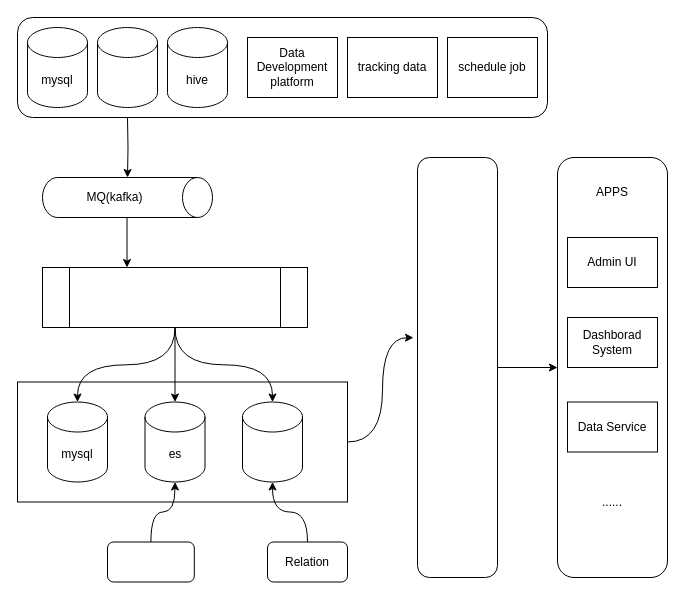
This 685x600 diagram has some shape labels left out. Here are the shapes that lost their labels. From the top down, the centre of each, then its label:
At pixel 127 67: "mongodb".
At pixel 175 297: "Lineage Parser Job".
At pixel 457 367: "API (HTTP/REST)".
At pixel 272 441: "neo4j".
At pixel 150 561: "Search".
